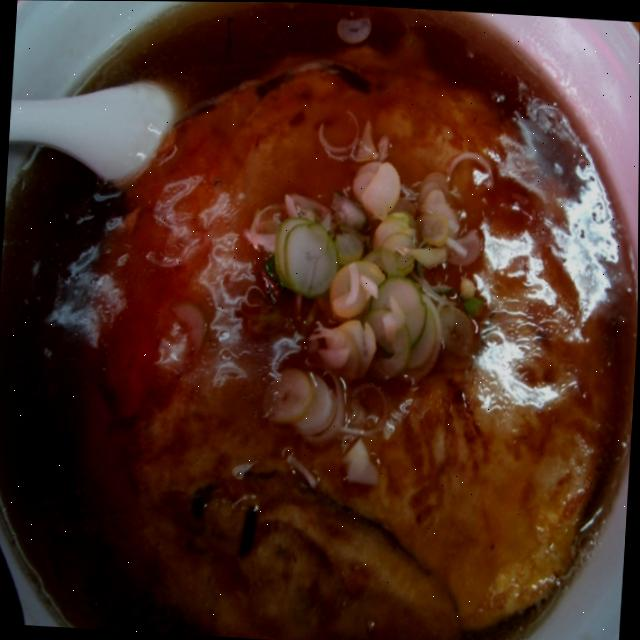面条主食: (79, 50, 617, 640)
